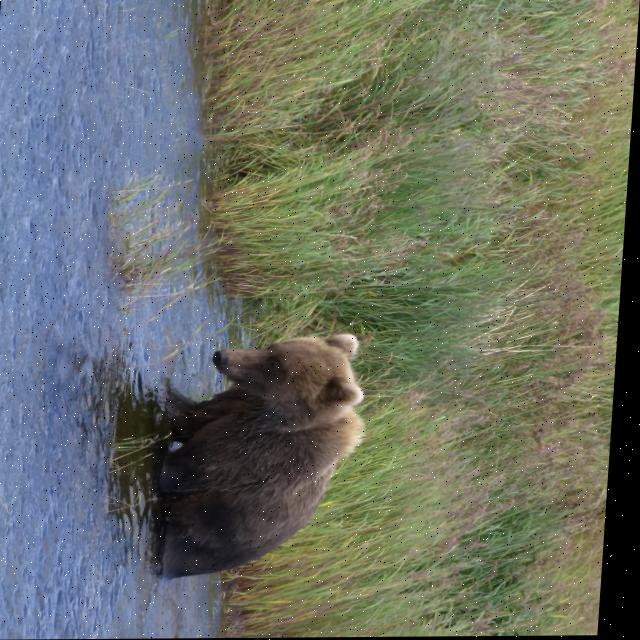bear face: (162, 335, 371, 577)
